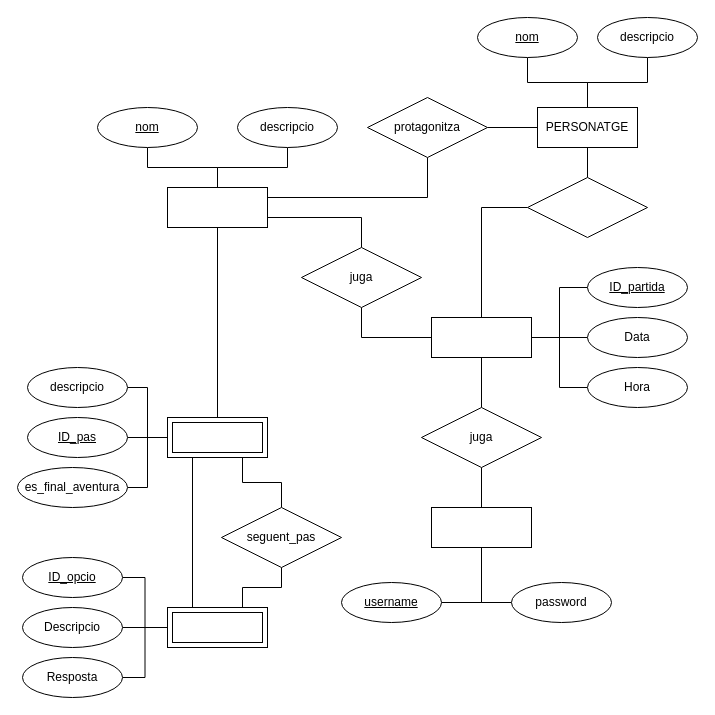
The diagram is 715 pixels wide and 715 high, and some of its shapes have lost their labels. Each missing label, with the box of its shape:
AVENTURA: (166, 186, 268, 228)
OPCIO: (166, 606, 268, 648)
PARTIDA: (430, 316, 532, 358)
PAS: (166, 416, 268, 458)
USUARI: (430, 506, 532, 548)
Utilitza: (526, 176, 648, 238)
